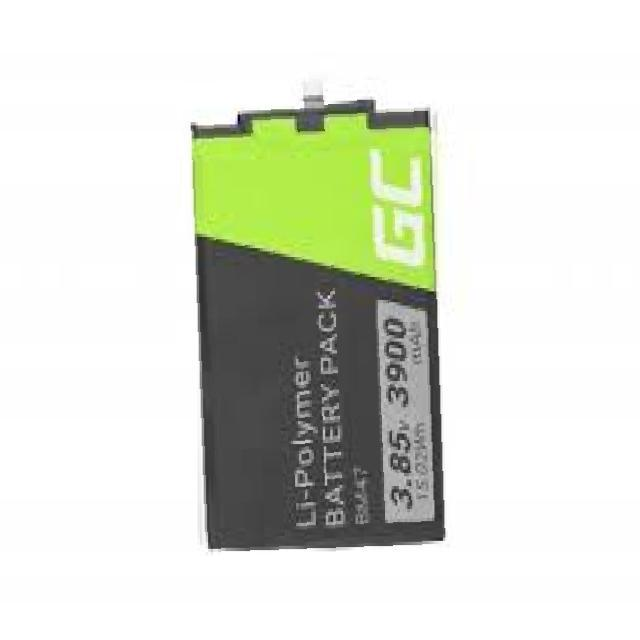Battery: (179, 90, 466, 556)
